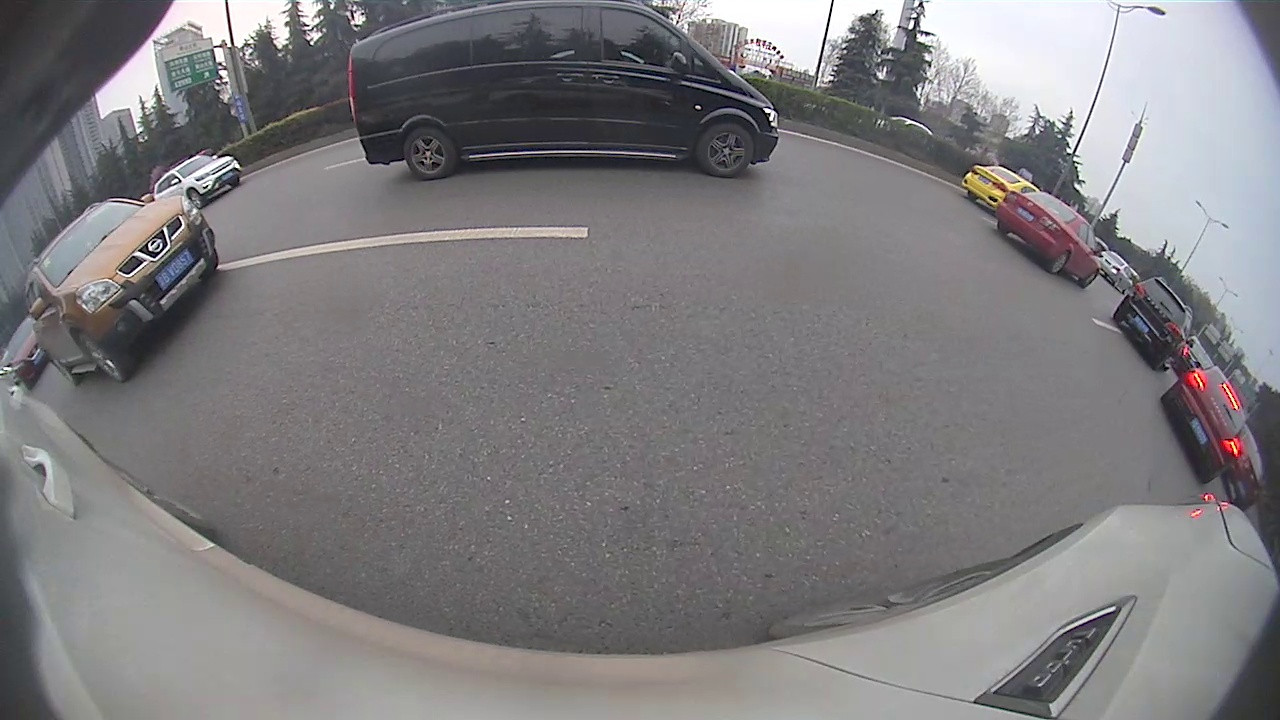car: (345, 1, 781, 179), (25, 194, 221, 386), (1160, 362, 1256, 487), (1000, 187, 1099, 288), (1120, 272, 1191, 370), (155, 155, 244, 206), (960, 160, 1027, 213), (1097, 250, 1133, 293)
front: (702, 120, 753, 177), (76, 330, 129, 382), (1049, 251, 1071, 275), (185, 187, 207, 211)
rear: (401, 130, 455, 179)
